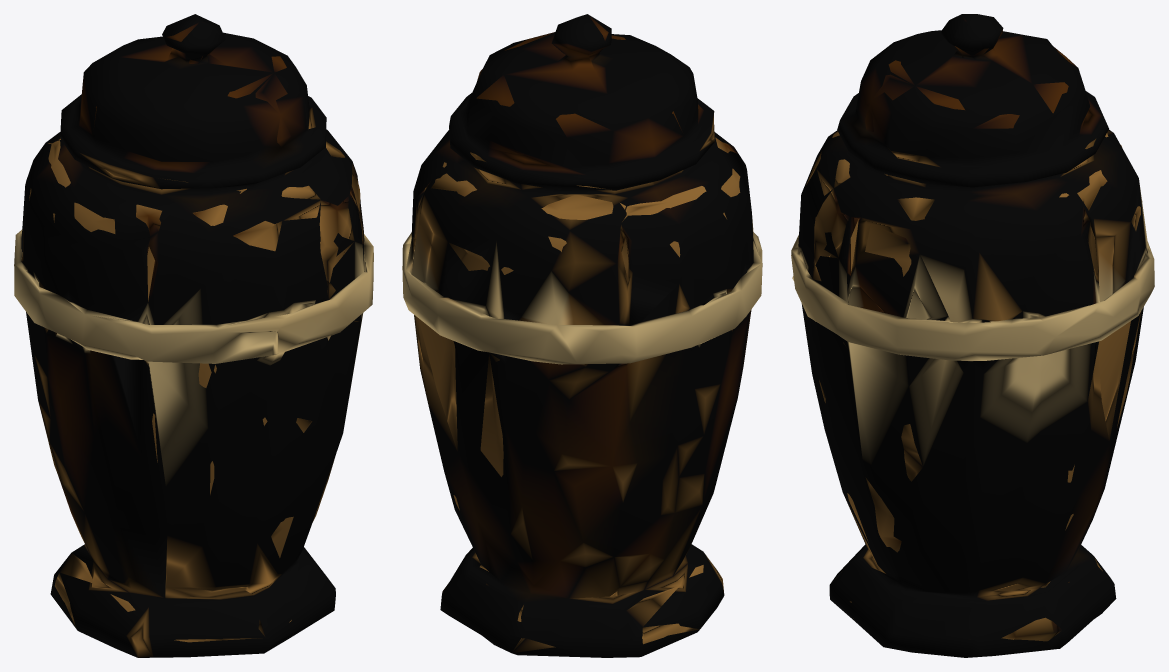
File: gen3d-funeral-urn-lod0.glb
3 renders of one model, left to right at view 1: azimuth 30°, elevation 25°; view 2: azimuth 150°, elevation 25°; view 3: azimuth 270°, elevation 25°, orthographic.
Visible parts, largest first — view 1: part_0; view 2: part_0; view 3: part_0.
Boxes of the visible parts, x1,y1,x2,y2 form: part_0: (14, 14, 373, 657); part_0: (402, 14, 762, 657); part_0: (791, 14, 1154, 657).
Bounding box in the file's own units: 0.5564 × 0.9992 × 0.5569.
